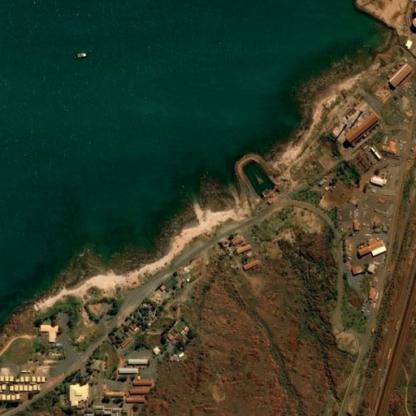ship: (75, 52, 84, 57)
